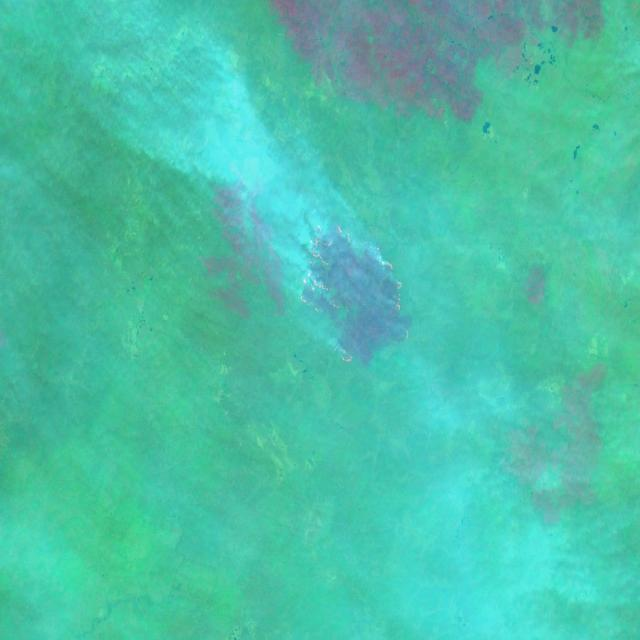fire: (286, 207, 418, 373)
